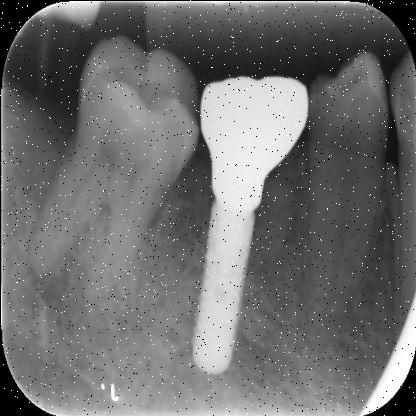ITI: (184, 204, 258, 376)
